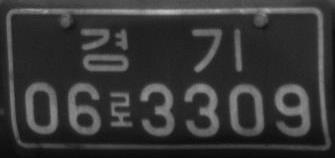0: (227, 82, 265, 138), (22, 80, 59, 136)
3: (138, 81, 175, 138), (183, 81, 220, 138)
6: (66, 81, 102, 137)
9: (272, 81, 312, 139)
경기_D: (79, 25, 242, 75)
로: (108, 89, 133, 128)
